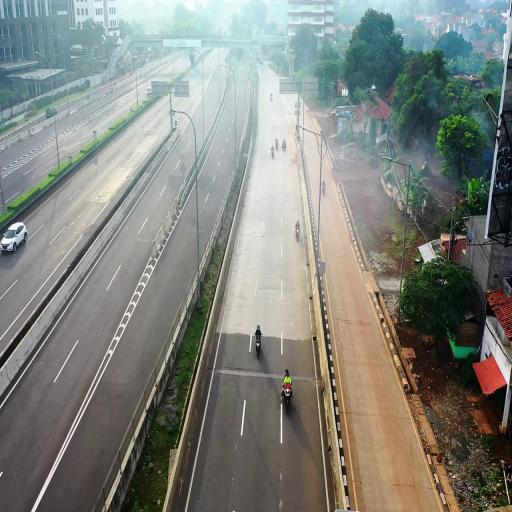vehicle: (0, 222, 28, 254)
